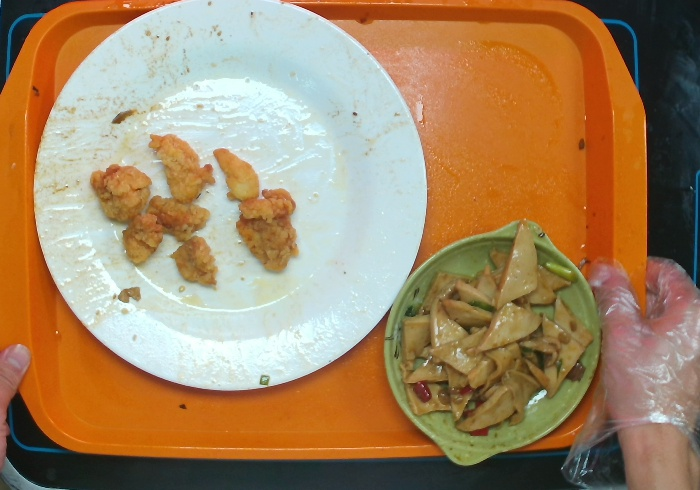NLDX-Da_Yuan_Pan: (29, 3, 429, 396)
NLDX-Lv_Hua_Shuang_Er_Die: (384, 218, 602, 468)
